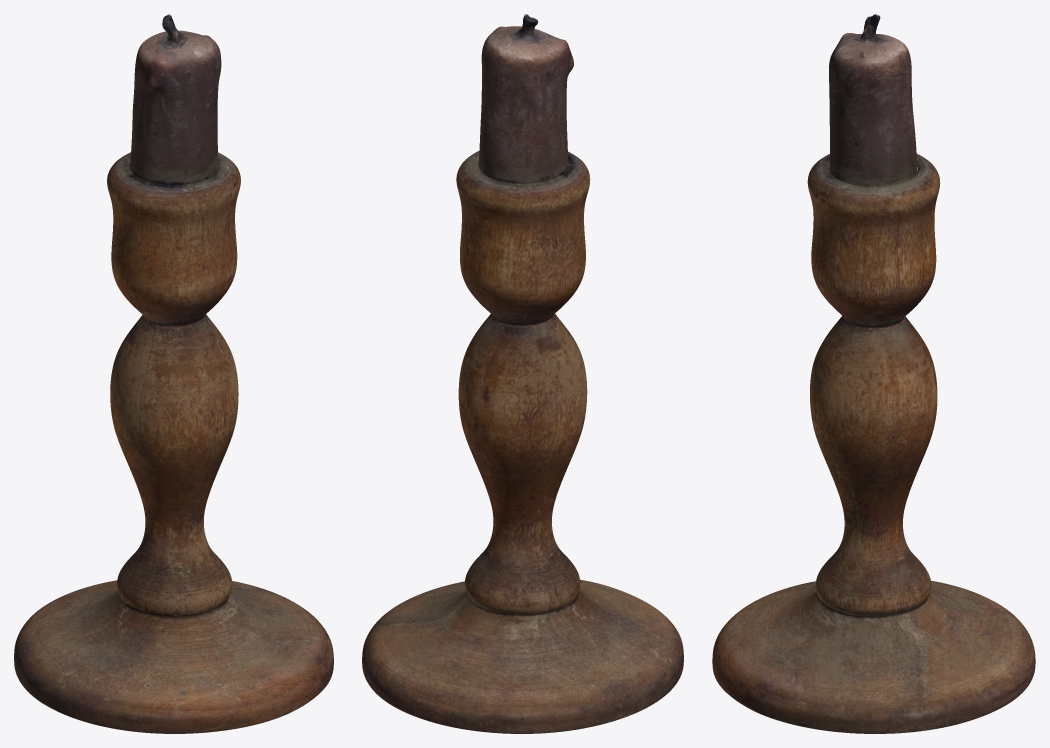
Rendered from wooden_candlestick.glb.
3 renders of one model, left to right at view 1: azimuth 30°, elevation 25°; view 2: azimuth 150°, elevation 25°; view 3: azimuth 270°, elevation 25°, orthographic.
Parts seen in each view (by area): view 1: wooden_candlestick; view 2: wooden_candlestick; view 3: wooden_candlestick.
Boxes of the visible parts, bbox=[...] form: wooden_candlestick: bbox=[14, 14, 333, 733]; wooden_candlestick: bbox=[362, 14, 683, 733]; wooden_candlestick: bbox=[712, 14, 1035, 733].
Size of the model in its own units: 0.0972 by 0.2197 by 0.0987.
1 material, 1 textured.
